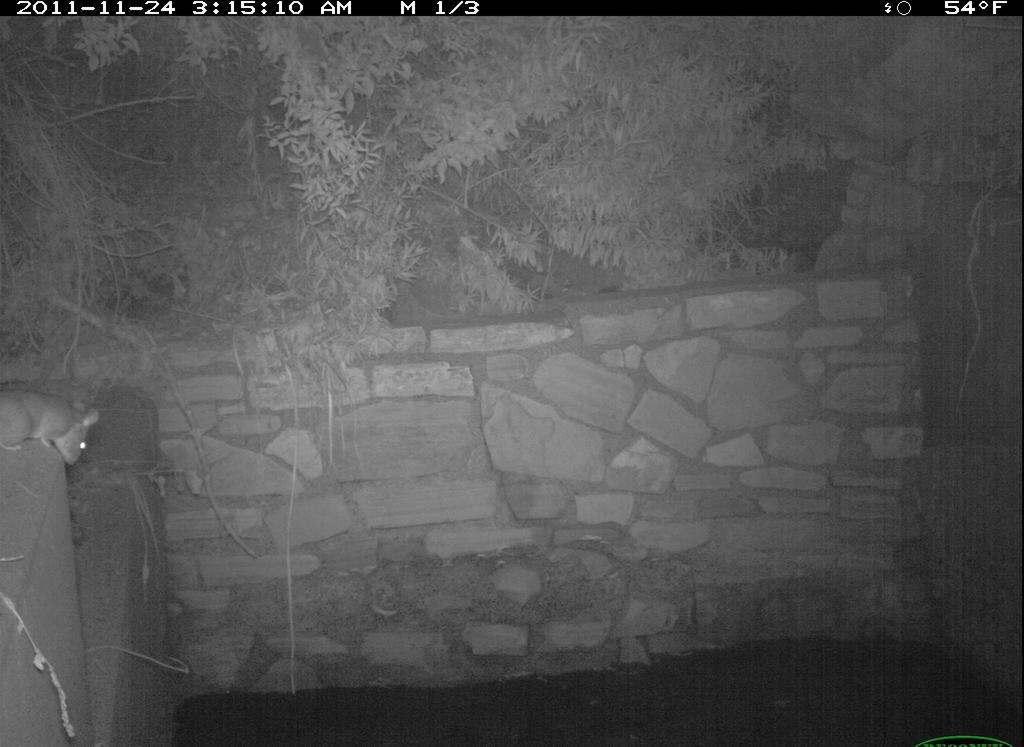rodent: (3, 376, 99, 470)
